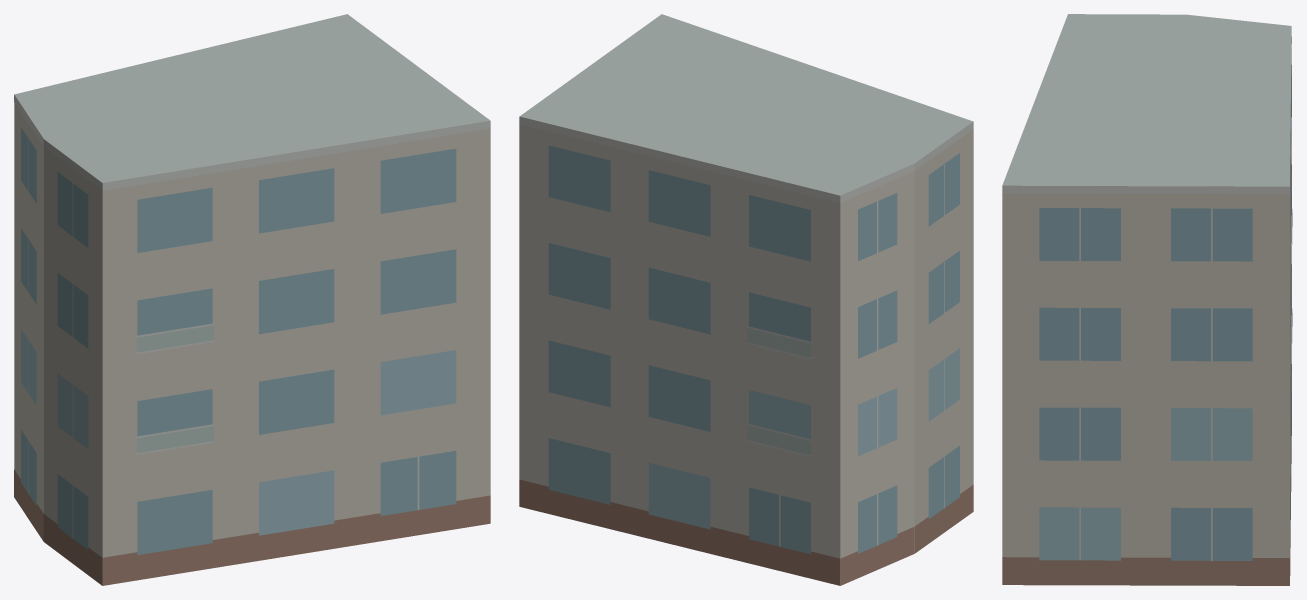
Rendered from survey-upis-32725376.glb.
3 renders of one model, left to right at view 1: azimuth 30°, elevation 25°; view 2: azimuth 150°, elevation 25°; view 3: azimuth 270°, elevation 25°, orthographic. The views are drawn at different scales.
Parts seen in each view (by area): view 1: survey-upis-32725376.tmp; view 2: survey-upis-32725376.tmp; view 3: survey-upis-32725376.tmp.
Part boxes in pixels (box(x1,y1,x2,y2)): survey-upis-32725376.tmp: box(14, 14, 490, 585); survey-upis-32725376.tmp: box(519, 14, 973, 585); survey-upis-32725376.tmp: box(1002, 14, 1292, 585).
Size of the model in its own units: 11.69 by 12.6 by 8.32.
